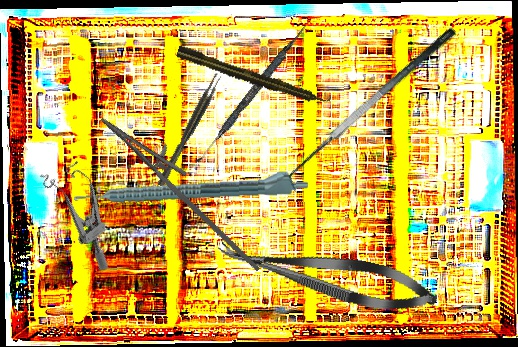Handpiece: (175, 43, 332, 111), (73, 167, 309, 207)
Micro Scissor: (212, 228, 442, 322)
Needle Holder: (84, 103, 286, 273)
Spatula Surgical: (276, 24, 470, 194), (194, 21, 309, 167)
Speculum: (30, 150, 142, 274)
Tissue Forceps: (153, 71, 225, 188)
